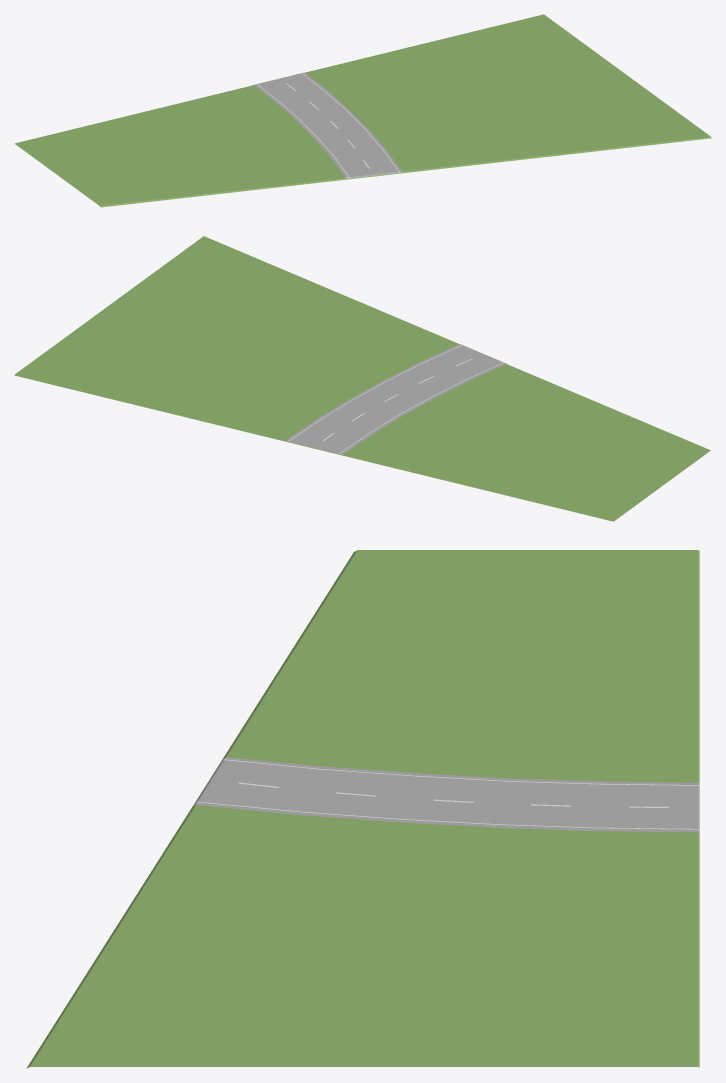
File: road_right_easy.fbx
3 views of the same model, one above another, from view 1: azimuth 30°, elevation 25°; view 2: azimuth 150°, elevation 25°; view 3: azimuth 270°, elevation 25° (orthographic). The views are drawn at different scales.
Visible parts, largest first — view 1: grass4, road_right_easy, stuff2; view 2: grass4, road_right_easy, stuff2; view 3: grass4, road_right_easy, stuff2.
Boxes of the visible parts, x1,y1,x2,y2 form: grass4: [14, 14, 711, 207]; road_right_easy: [254, 72, 402, 178]; stuff2: [257, 73, 399, 178]; grass4: [14, 236, 710, 521]; road_right_easy: [285, 344, 506, 454]; stuff2: [288, 345, 503, 453]; grass4: [26, 550, 699, 1068]; road_right_easy: [193, 757, 699, 832]; stuff2: [195, 759, 698, 829].
Size of the model in its own units: 25 by 0.0696 by 13.77.
